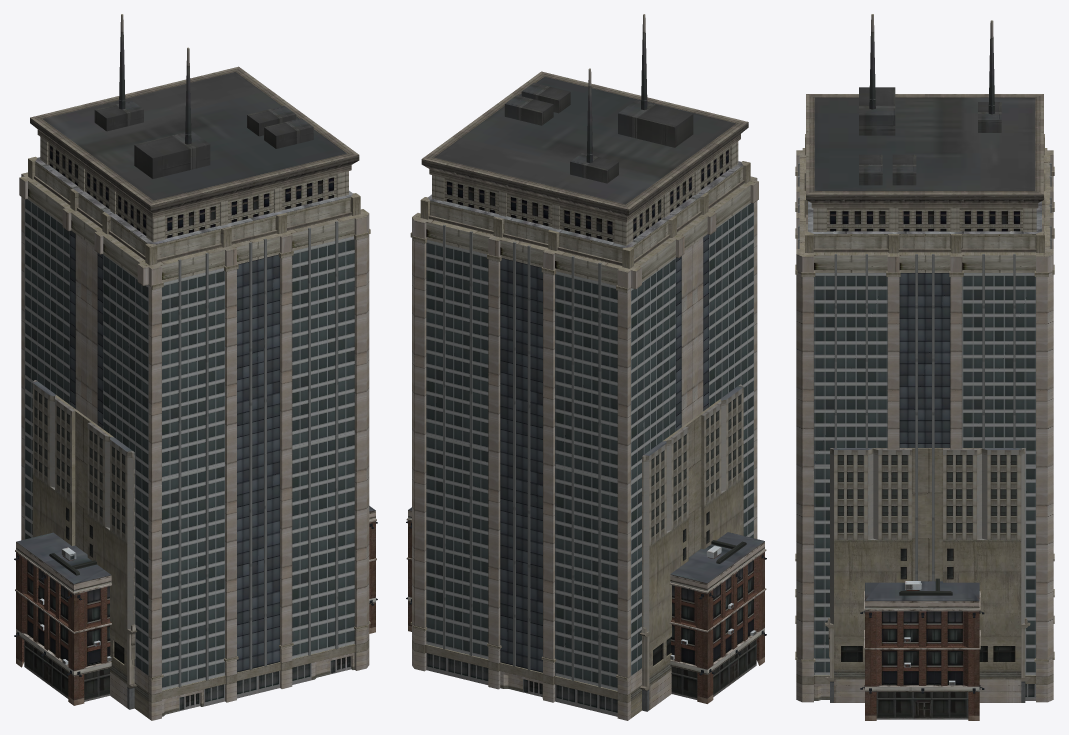
File: stadt.glb
The picture shows the model from 3 angles, left to right: view 1: azimuth 30°, elevation 25°; view 2: azimuth 150°, elevation 25°; view 3: azimuth 270°, elevation 25°; orthographic projection.
Parts seen in each view (by area): view 1: Downtown_ModernOffice_4_Downtown_International_Side_1_0, Downtown_ModernOffice_4_Downtown_Concrete_FLR_1_0, Downtown_ModernOffice_5_Downtown_Modern_Firstfloor_FLR_1_0, Downtown_ModernOffice_5_Downtown_Facade_FLR_4_0, Downtown_ModernOffice_4_Downtown_Firstfloor_FLR_2_0, Downtown_BrownstoneOffice_1_Downtown_Facade_FLR_2_0, Downtown_ClassicOffice_1_Downtown_Facade_FLR_1_0, Downtown_ClassicOffice_1_Downtown_Concrete_FLR_1_0, Downtown_BrownstoneOffice_1_Downtown_Brownstone_Firstfloor_1, Downtown_ClassicOffice_1_Downtown_Facade_FLR_3_0; view 2: Downtown_ModernOffice_4_Downtown_International_Side_1_0, Downtown_ModernOffice_4_Downtown_Concrete_FLR_1_0, Downtown_ModernOffice_5_Downtown_Modern_Firstfloor_FLR_1_0, Downtown_ModernOffice_5_Downtown_Facade_FLR_4_0, Downtown_ModernOffice_4_Downtown_Firstfloor_FLR_2_0, Downtown_BrownstoneOffice_1_Downtown_Facade_FLR_2_0, Downtown_ClassicOffice_1_Downtown_Facade_FLR_1_0, Downtown_ClassicOffice_1_Downtown_Concrete_FLR_1_0, Downtown_BrownstoneOffice_1_Downtown_Brownstone_Firstfloor_1; view 3: Downtown_ModernOffice_4_Downtown_International_Side_1_0, Downtown_ModernOffice_4_Downtown_Concrete_FLR_1_0, Downtown_ModernOffice_5_Downtown_Modern_Firstfloor_FLR_1_0, Downtown_ClassicOffice_1_Downtown_Concrete_FLR_1_0, Downtown_ClassicOffice_1_Downtown_Facade_FLR_1_0, Downtown_BrownstoneOffice_1_Downtown_Facade_FLR_2_0, Downtown_ModernOffice_5_Downtown_Facade_FLR_4_0, Downtown_ModernOffice_4_Downtown_Firstfloor_FLR_2_0, Downtown_BrownstoneOffice_1_Downtown_Brownstone_Firstfloor_1, Downtown_ClassicOffice_1_Downtown_Facade_FLR_3_0.
Part boxes in pixels (bbox=[...]): Downtown_ModernOffice_4_Downtown_International_Side_1_0: bbox=[24, 199, 354, 690]; Downtown_ModernOffice_4_Downtown_Concrete_FLR_1_0: bbox=[19, 156, 370, 720]; Downtown_ModernOffice_5_Downtown_Modern_Firstfloor_FLR_1_0: bbox=[42, 14, 346, 200]; Downtown_ModernOffice_5_Downtown_Facade_FLR_4_0: bbox=[30, 66, 359, 262]; Downtown_ModernOffice_4_Downtown_Firstfloor_FLR_2_0: bbox=[35, 157, 352, 711]; Downtown_BrownstoneOffice_1_Downtown_Facade_FLR_2_0: bbox=[14, 506, 377, 705]; Downtown_ClassicOffice_1_Downtown_Facade_FLR_1_0: bbox=[32, 380, 134, 709]; Downtown_ClassicOffice_1_Downtown_Concrete_FLR_1_0: bbox=[32, 395, 127, 707]; Downtown_BrownstoneOffice_1_Downtown_Brownstone_Firstfloor_1: bbox=[23, 547, 111, 701]; Downtown_ClassicOffice_1_Downtown_Facade_FLR_3_0: bbox=[66, 507, 137, 688]; Downtown_ModernOffice_4_Downtown_International_Side_1_0: bbox=[426, 203, 753, 690]; Downtown_ModernOffice_4_Downtown_Concrete_FLR_1_0: bbox=[410, 161, 758, 720]; Downtown_ModernOffice_5_Downtown_Modern_Firstfloor_FLR_1_0: bbox=[434, 14, 735, 204]; Downtown_ModernOffice_5_Downtown_Facade_FLR_4_0: bbox=[421, 71, 748, 265]; Downtown_ModernOffice_4_Downtown_Firstfloor_FLR_2_0: bbox=[426, 161, 742, 716]; Downtown_BrownstoneOffice_1_Downtown_Facade_FLR_2_0: bbox=[406, 507, 766, 703]; Downtown_ClassicOffice_1_Downtown_Facade_FLR_1_0: bbox=[642, 384, 743, 711]; Downtown_ClassicOffice_1_Downtown_Concrete_FLR_1_0: bbox=[649, 399, 743, 709]; Downtown_BrownstoneOffice_1_Downtown_Brownstone_Firstfloor_1: bbox=[670, 540, 757, 699]; Downtown_ModernOffice_4_Downtown_International_Side_1_0: bbox=[814, 273, 1035, 675]; Downtown_ModernOffice_4_Downtown_Concrete_FLR_1_0: bbox=[795, 134, 1054, 702]; Downtown_ModernOffice_5_Downtown_Modern_Firstfloor_FLR_1_0: bbox=[814, 14, 1035, 190]; Downtown_ClassicOffice_1_Downtown_Concrete_FLR_1_0: bbox=[834, 448, 1021, 702]; Downtown_ClassicOffice_1_Downtown_Facade_FLR_1_0: bbox=[830, 448, 1025, 702]; Downtown_BrownstoneOffice_1_Downtown_Facade_FLR_2_0: bbox=[860, 581, 984, 720]; Downtown_ModernOffice_5_Downtown_Facade_FLR_4_0: bbox=[806, 94, 1043, 252]; Downtown_ModernOffice_4_Downtown_Firstfloor_FLR_2_0: bbox=[798, 163, 1051, 700]; Downtown_BrownstoneOffice_1_Downtown_Brownstone_Firstfloor_1: bbox=[876, 578, 968, 719]; Downtown_ClassicOffice_1_Downtown_Facade_FLR_3_0: bbox=[825, 548, 1030, 681].
Size of the model in its own units: 52.98 by 102 by 38.85.
20 materials, 20 textured.
